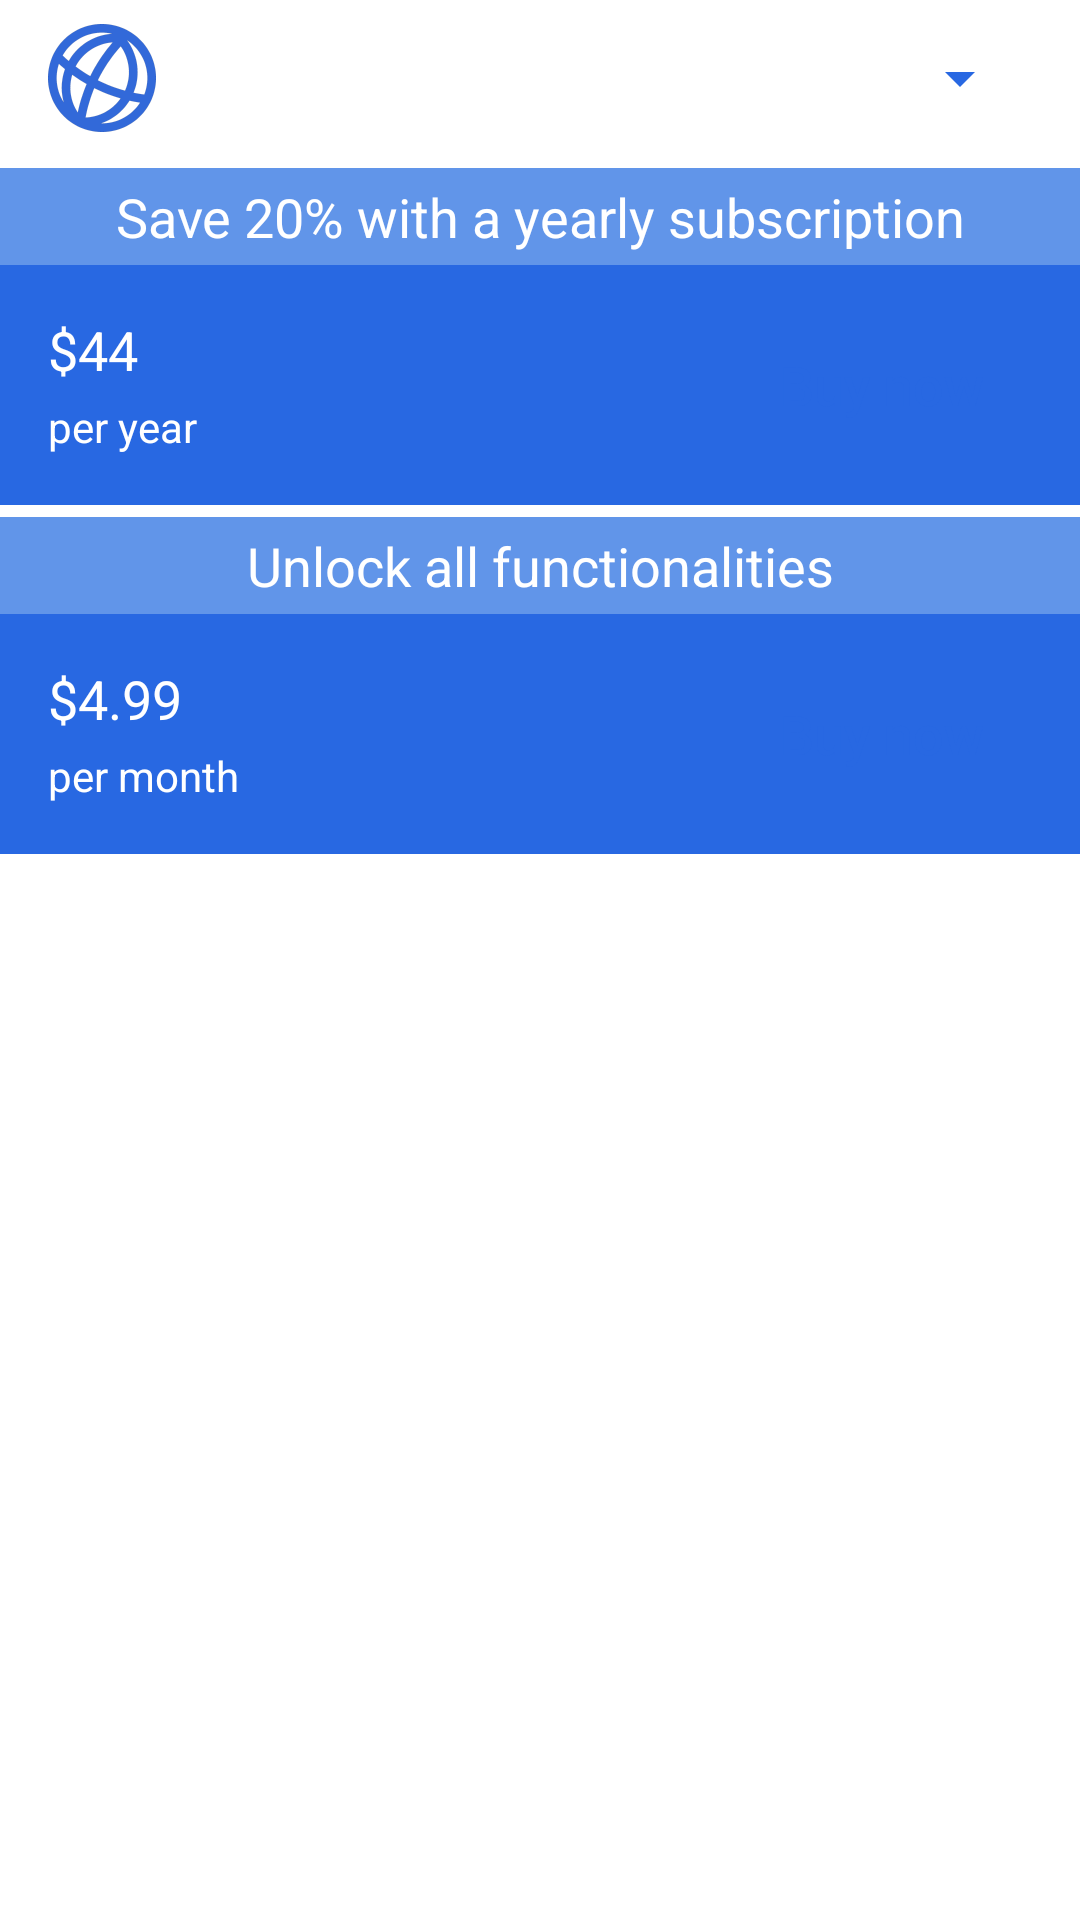

Named icons in this screenshot (1080x1920) and their bounding boxes, (x1, y1, x2, y2):
lang: (48, 24, 156, 132)
